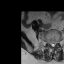CCS_severe_stenosis: (52, 41, 54, 49)
LFS_normal: (55, 39, 58, 45)
LLS_normal: (54, 40, 55, 47)
RFS_stenosis: (48, 39, 50, 46)
RLS_normal: (50, 40, 52, 47)
